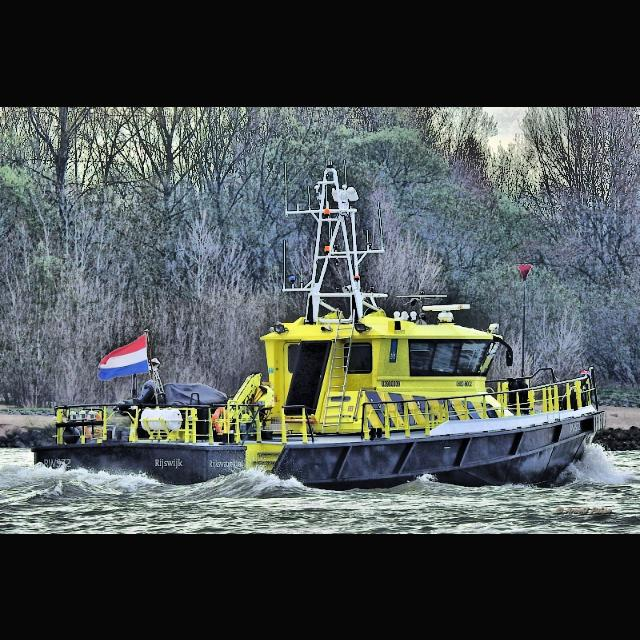patrol_vessel: (29, 155, 609, 493)
